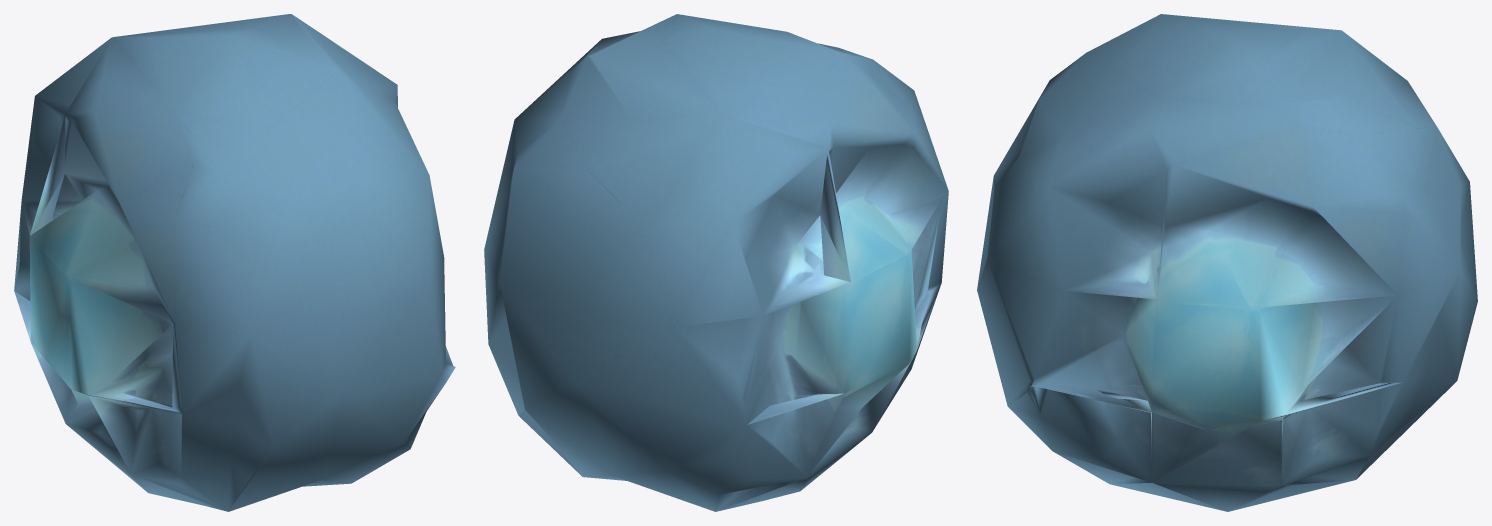
File: M_Ice_Bullet.obj
3 views of the same model, side by side, from view 1: azimuth 30°, elevation 25°; view 2: azimuth 150°, elevation 25°; view 3: azimuth 270°, elevation 25° (orthographic).
Visible parts, largest first — view 1: tripo_node_d35ca5a5-45f2-43fa-ae3a-aa396b16b14d; view 2: tripo_node_d35ca5a5-45f2-43fa-ae3a-aa396b16b14d; view 3: tripo_node_d35ca5a5-45f2-43fa-ae3a-aa396b16b14d.
Boxes of the visible parts, box(x1,y1,x2,y2) form: tripo_node_d35ca5a5-45f2-43fa-ae3a-aa396b16b14d: box(14, 14, 455, 511); tripo_node_d35ca5a5-45f2-43fa-ae3a-aa396b16b14d: box(484, 14, 948, 511); tripo_node_d35ca5a5-45f2-43fa-ae3a-aa396b16b14d: box(977, 14, 1477, 511).
Size of the model in its own units: 0.8061 by 0.9503 by 0.9795.
Materials: 1 (1 with a texture image).
